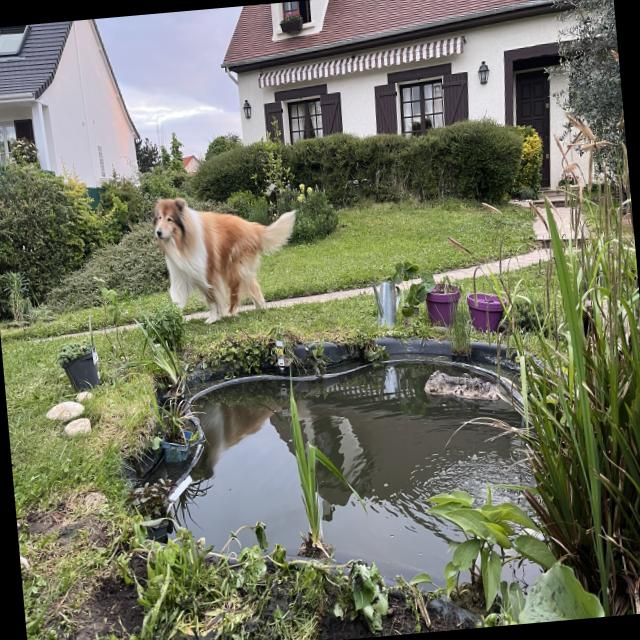Dog: (142, 173, 310, 342)
